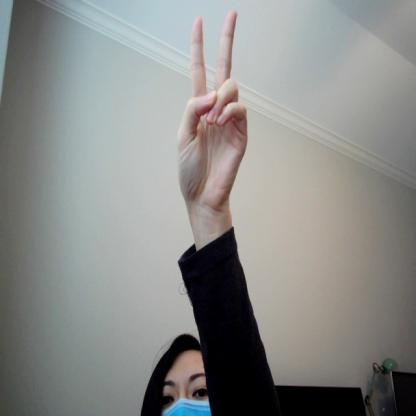two: (176, 10, 250, 209)
